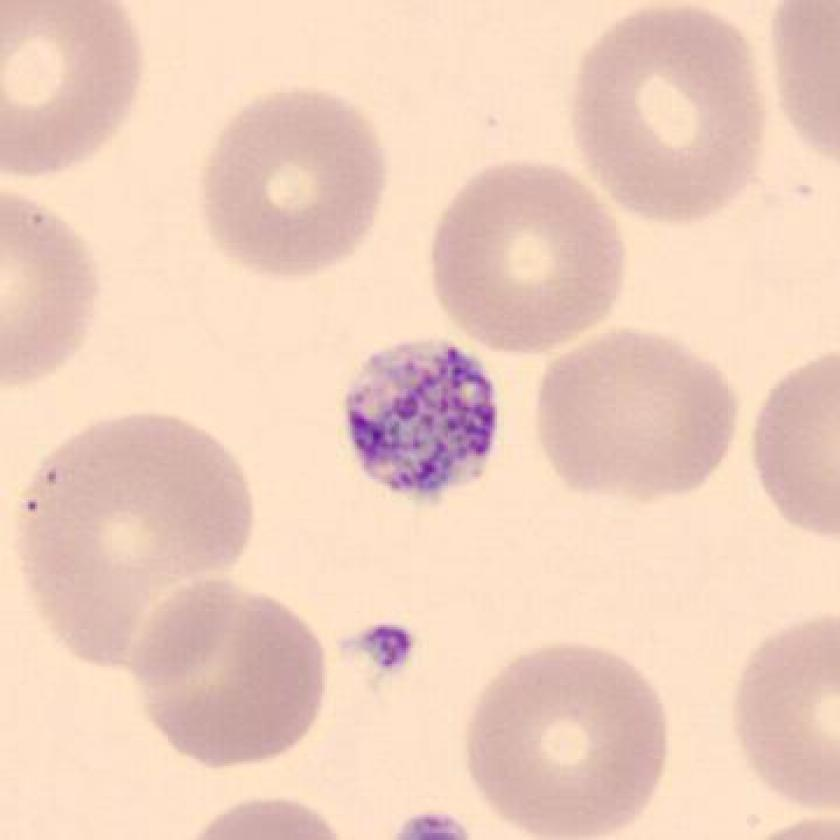platelets: (335, 332, 505, 510)
